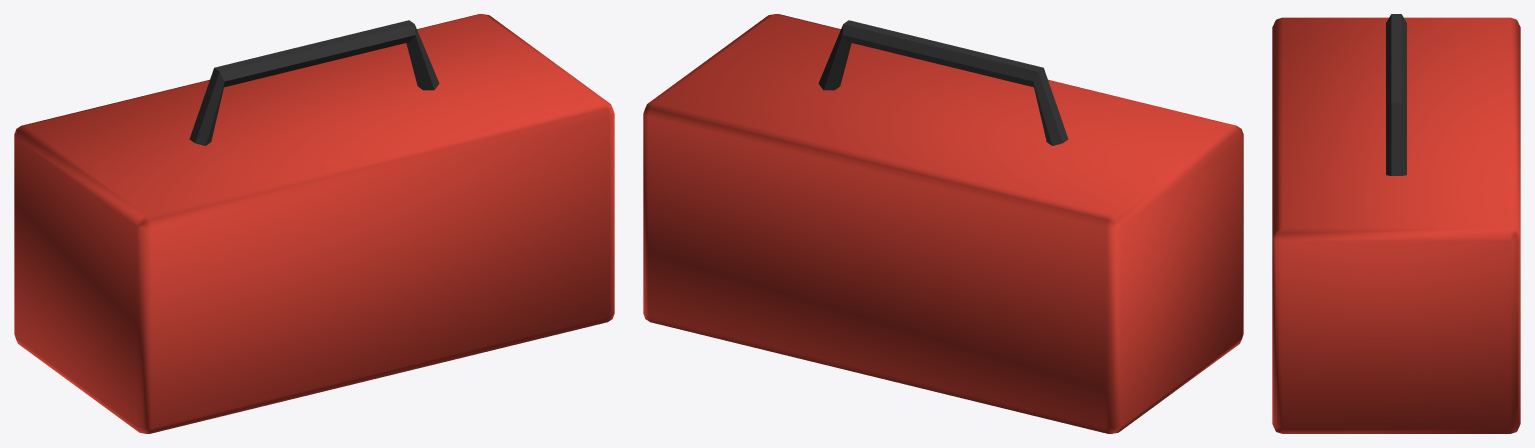
Rendered from toolbox.glb.
3 views of the same model, side by side, from view 1: azimuth 30°, elevation 25°; view 2: azimuth 150°, elevation 25°; view 3: azimuth 270°, elevation 25° (orthographic). The views are drawn at different scales.
Visible parts, largest first — view 1: Toolbox, Toolbox handle; view 2: Toolbox, Toolbox handle; view 3: Toolbox, Toolbox handle.
Boxes of the visible parts, x1,y1,x2,y2 form: Toolbox: (14,14,614,433); Toolbox handle: (189,20,439,145); Toolbox: (643,14,1243,433); Toolbox handle: (818,20,1068,145); Toolbox: (1272,17,1520,433); Toolbox handle: (1386,14,1406,175).
Size of the model in its own units: 0.5 by 0.2884 by 0.24.
